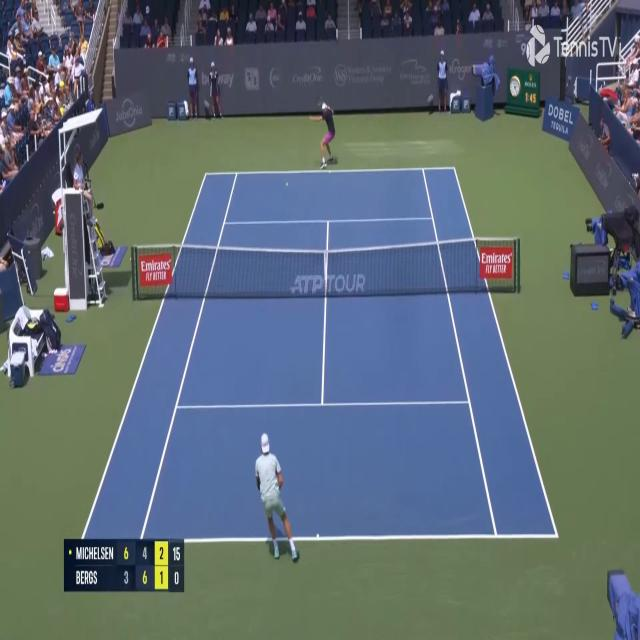tennis-player: (254, 428, 301, 565), (316, 99, 339, 172)
